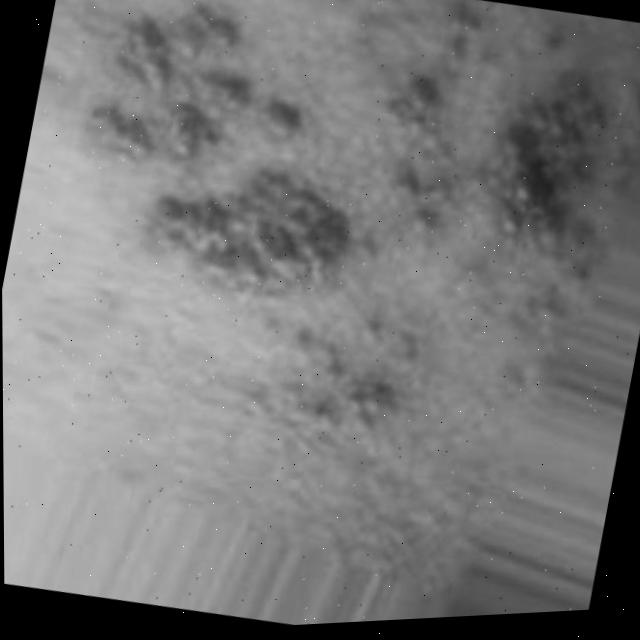Shingles: (42, 0, 628, 371)
